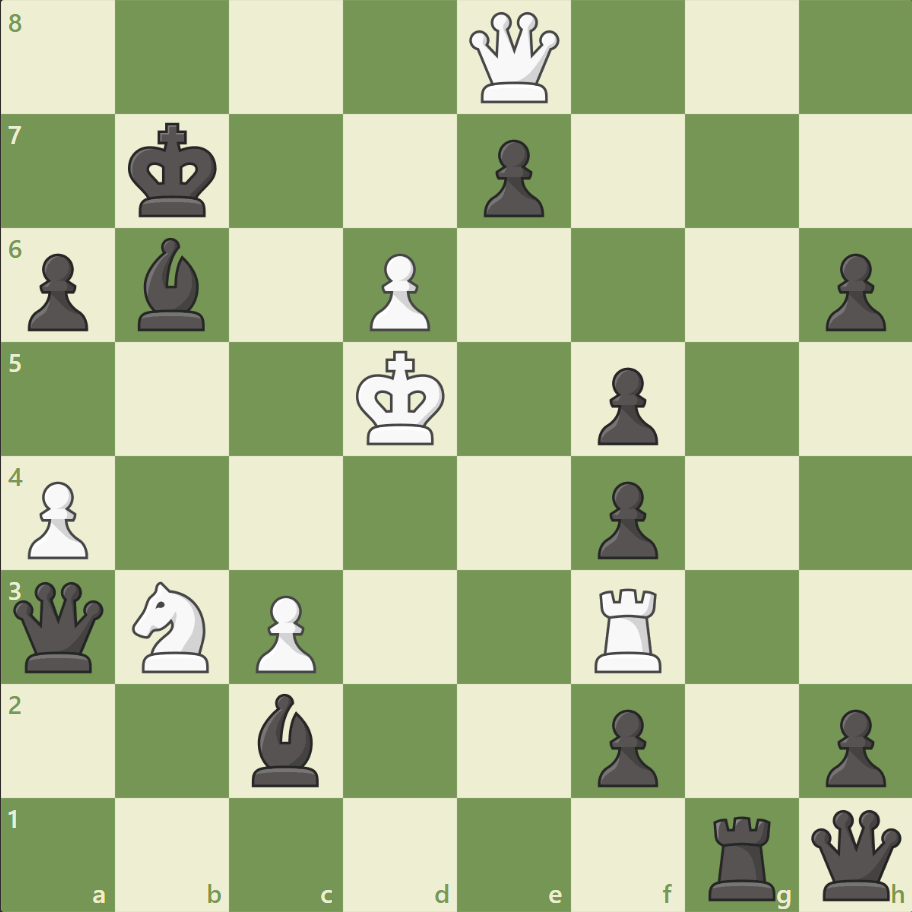K: (351, 344, 451, 452)
N: (124, 575, 222, 677)
P: (20, 473, 95, 564), (247, 586, 322, 677), (361, 246, 435, 337)
Q: (464, 9, 563, 108)
R: (587, 579, 670, 676)
b: (131, 233, 215, 336), (244, 687, 328, 790)
k: (124, 117, 224, 225)
p: (474, 132, 549, 223), (20, 246, 95, 337), (815, 246, 889, 337), (588, 359, 662, 450), (588, 473, 662, 564), (588, 700, 662, 791), (815, 700, 889, 791)
q: (10, 576, 109, 676), (805, 804, 904, 903)
r: (700, 806, 783, 904)
